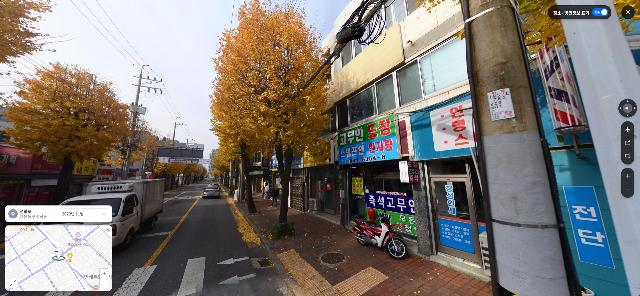ginkgo: (209, 0, 337, 237), (1, 62, 135, 205), (209, 91, 269, 212), (226, 139, 264, 213), (111, 118, 160, 168), (212, 136, 241, 191), (152, 162, 205, 189)
